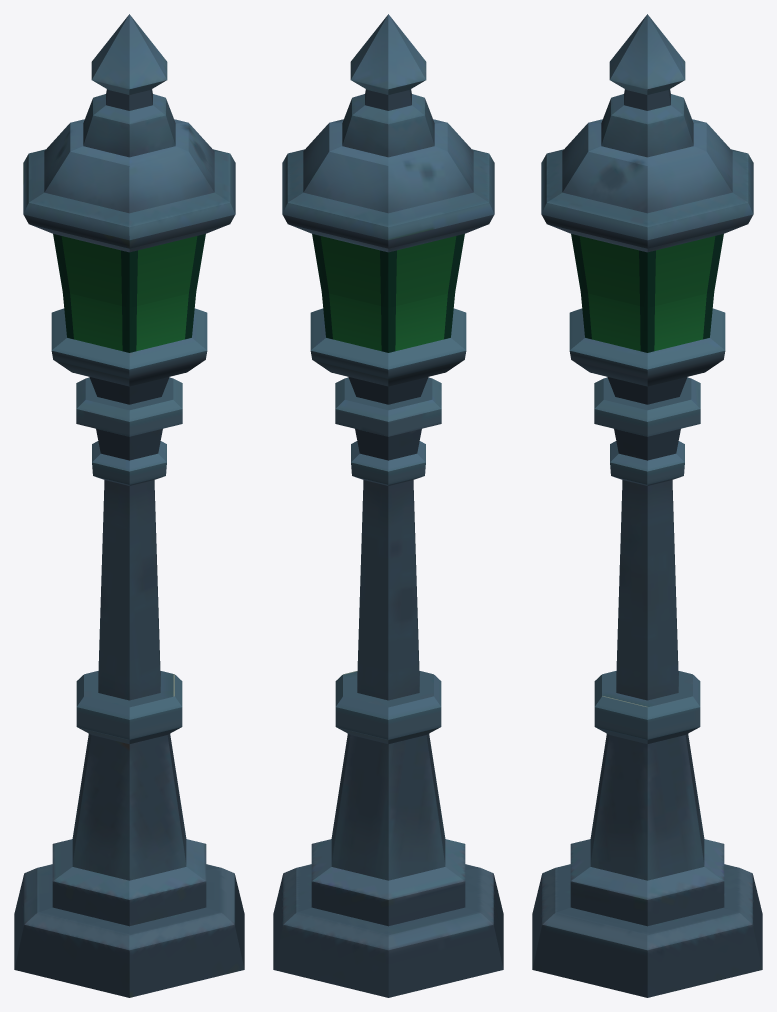
Rendered from DecoStreetLantern_off.fbx.
3 renders of one model, left to right at view 1: azimuth 30°, elevation 25°; view 2: azimuth 150°, elevation 25°; view 3: azimuth 270°, elevation 25°, orthographic.
Visible parts, largest first — view 1: Lantern, StreetLightDay; view 2: Lantern, StreetLightDay; view 3: Lantern, StreetLightDay.
Part boxes in pixels (x1,y1,x2,y2): Lantern: (14, 14, 244, 997); StreetLightDay: (53, 234, 205, 352); Lantern: (273, 14, 503, 997); StreetLightDay: (312, 234, 464, 352); Lantern: (532, 14, 762, 997); StreetLightDay: (571, 234, 723, 352).
Size of what is drawn, in the model's own units: 0.6141 by 2.37 by 0.5318.
2 materials, 1 textured.
